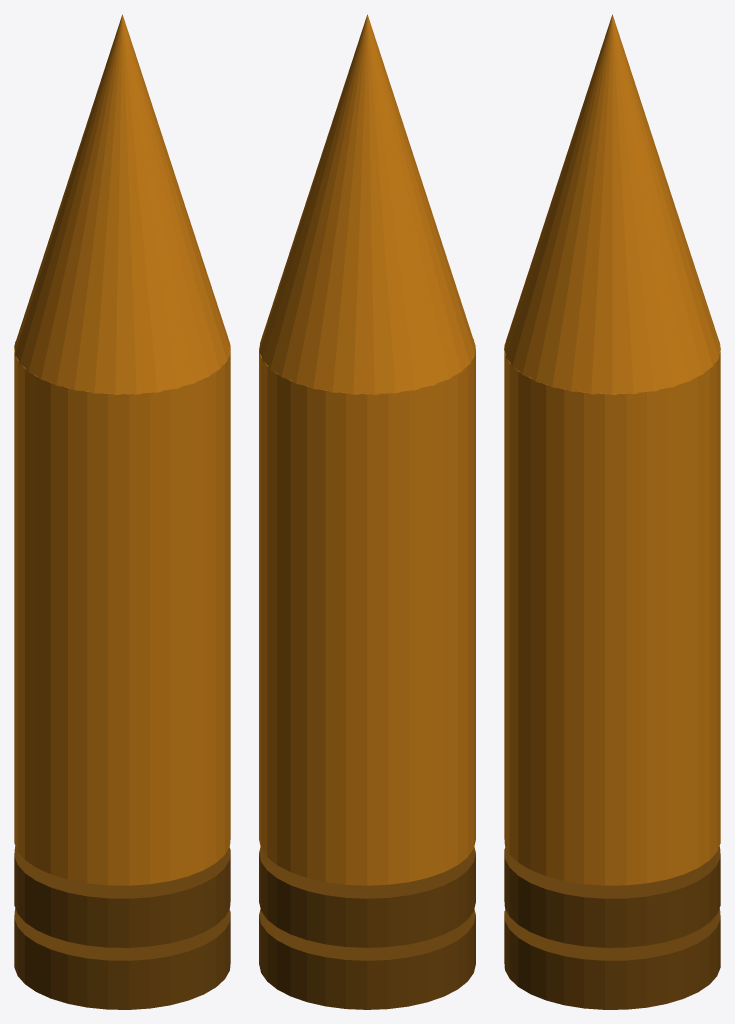
File: ammo.fbx
3 renders of one model, left to right at view 1: azimuth 30°, elevation 25°; view 2: azimuth 150°, elevation 25°; view 3: azimuth 270°, elevation 25°, orthographic.
Parts seen in each view (by area): view 1: Cylinder, Cone, Cylinder.001, Cylinder.002; view 2: Cylinder, Cone, Cylinder.001, Cylinder.002; view 3: Cylinder, Cone, Cylinder.001, Cylinder.002.
Boxes of the visible parts, <box> form: Cylinder: <box>14,341,230,885</box>; Cone: <box>14,14,230,394</box>; Cylinder.001: <box>14,846,230,947</box>; Cylinder.002: <box>14,908,230,1009</box>; Cylinder: <box>259,339,475,885</box>; Cone: <box>259,14,475,394</box>; Cylinder.001: <box>259,847,475,947</box>; Cylinder.002: <box>259,909,475,1009</box>; Cylinder: <box>504,341,720,885</box>; Cone: <box>504,14,720,394</box>; Cylinder.001: <box>504,846,720,947</box>; Cylinder.002: <box>504,908,720,1009</box>.
Bounding box in the file's own units: 200 × 967 × 200.
